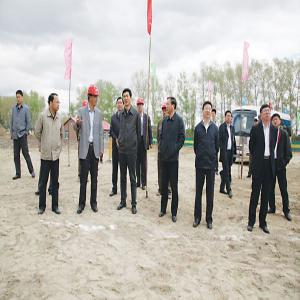none: (49, 93, 61, 115), (261, 104, 272, 123), (122, 89, 132, 109), (167, 97, 177, 117), (203, 102, 213, 122), (272, 113, 282, 129), (17, 90, 25, 107), (117, 98, 125, 114), (225, 111, 233, 125), (212, 109, 218, 119)
red: (88, 86, 100, 108), (137, 99, 145, 114), (163, 103, 169, 118)
white: (255, 117, 260, 127)
